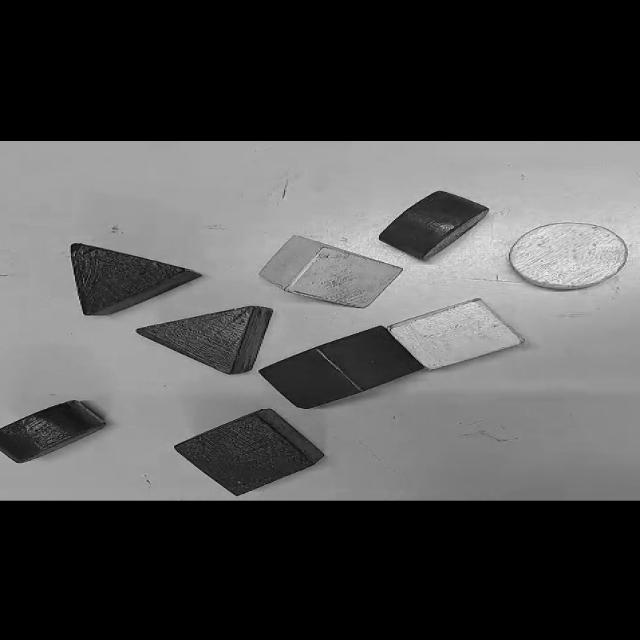bcircle: (0, 400, 105, 463)
bcube: (175, 409, 324, 496)
btriangle: (70, 244, 200, 316)
rcircle: (379, 191, 488, 260)
rcube: (259, 327, 424, 408)
rtriangle: (137, 306, 273, 374)
ycircle: (509, 223, 629, 290)
ycube: (389, 299, 524, 369)
ytriangle: (260, 235, 403, 307)
